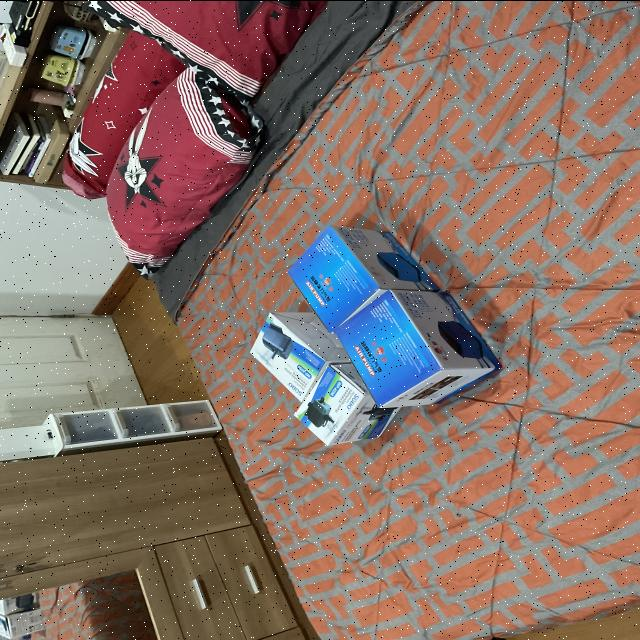SOBO_WP_4200: (225, 308, 334, 406), (291, 360, 396, 448)
YAMANO_LPP_20: (330, 284, 502, 412), (275, 207, 440, 337)
